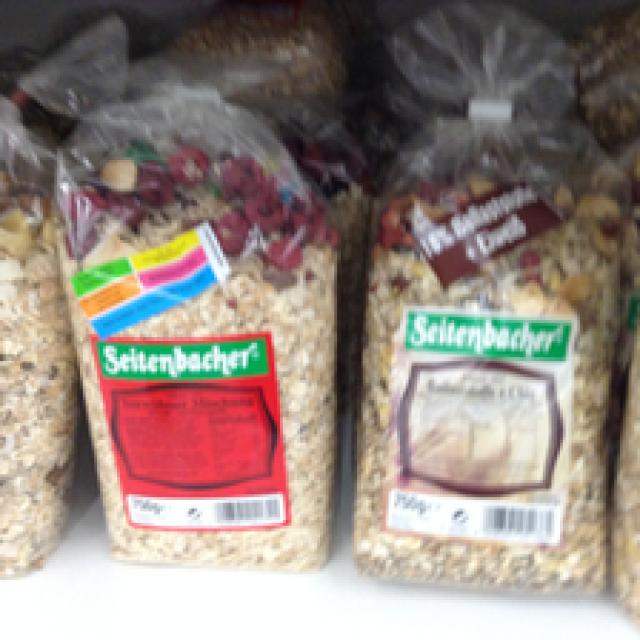groceries: (352, 111, 637, 588), (52, 128, 337, 566)
